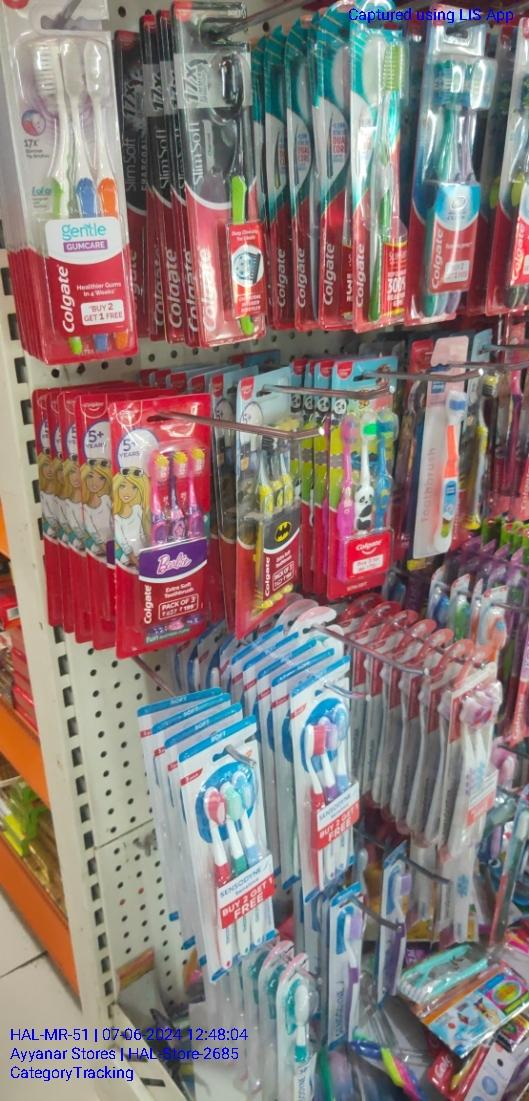soap: (182, 3, 272, 338)
